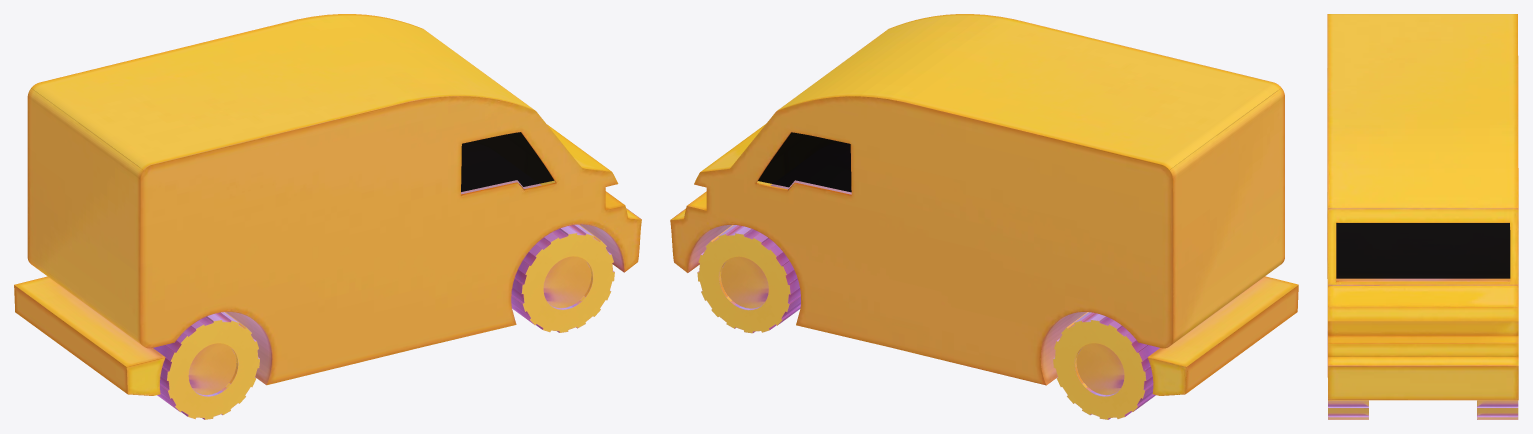
Rendered from INCONOGRAPHY_Source_v4.glb.
3 views of the same model, side by side, from view 1: azimuth 30°, elevation 25°; view 2: azimuth 150°, elevation 25°; view 3: azimuth 270°, elevation 25° (orthographic). The views are drawn at different scales.
Parts seen in each view (by area): view 1: van, vanWheel_1, vanWheel_1.001; view 2: van, vanWheel_1.002, vanWheel_1.003; view 3: van, vanWheel_1.002, vanWheel_1.
Boxes of the visible parts, left/top/right/bottom form: van: left=14, top=14, right=641, bottom=395; vanWheel_1: left=511, top=224, right=614, bottom=332; vanWheel_1.001: left=153, top=312, right=259, bottom=419; van: left=670, top=14, right=1298, bottom=395; vanWheel_1.002: left=697, top=225, right=800, bottom=333; vanWheel_1.003: left=1053, top=312, right=1159, bottom=419; van: left=1327, top=14, right=1518, bottom=400; vanWheel_1.002: left=1477, top=400, right=1518, bottom=419; vanWheel_1: left=1328, top=400, right=1368, bottom=419.
Bounding box in the file's own units: 0.9976 × 0.4971 × 0.378.
Materials: 5 (4 with a texture image).
